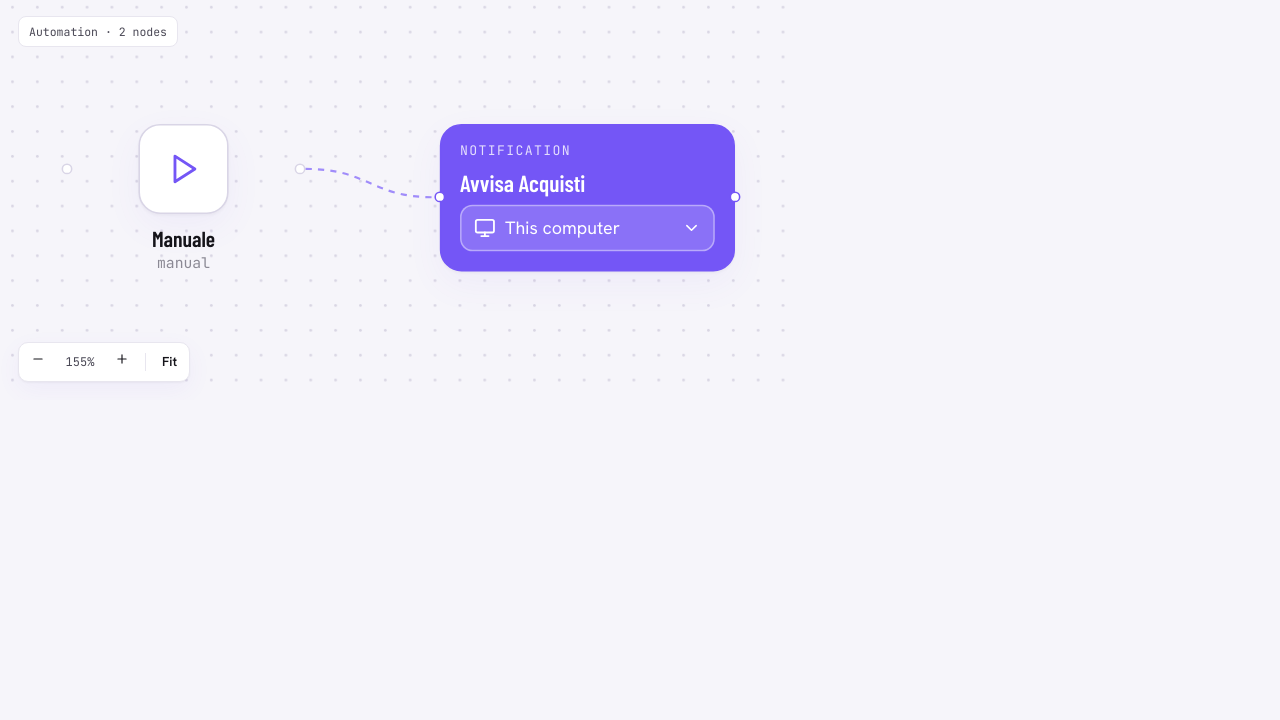
it: the notification node on the canvas › clicking the chip opens the popup and does not select the node
Click the button with class "notif-chip".
click(587, 228)  # box [460, 205, 715, 250]
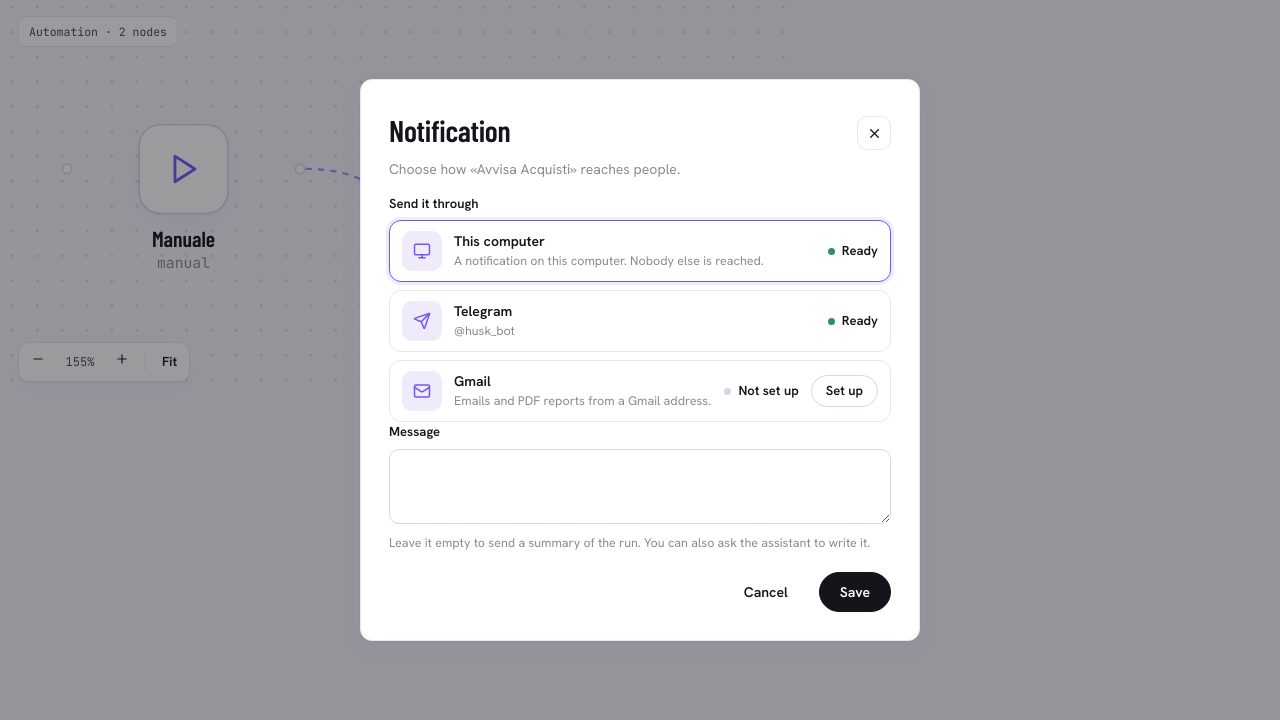
Now the dialog "Notification" is shown, box [360, 79, 920, 641]
